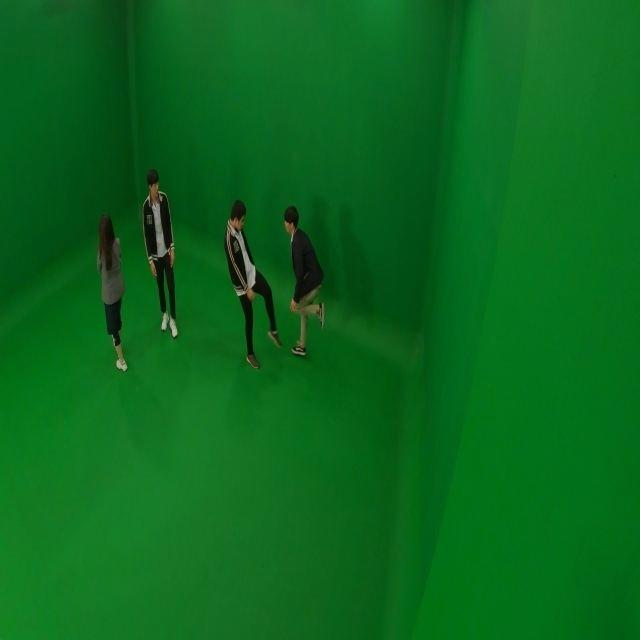fight: (222, 198, 334, 371)
non-fight: (141, 167, 180, 337), (95, 213, 130, 372)
